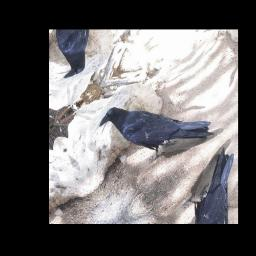Crow: (94, 61, 218, 192)
